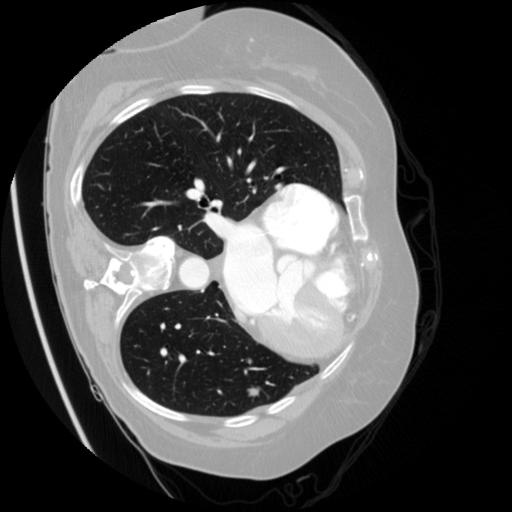nodule: (244, 382, 265, 403)
